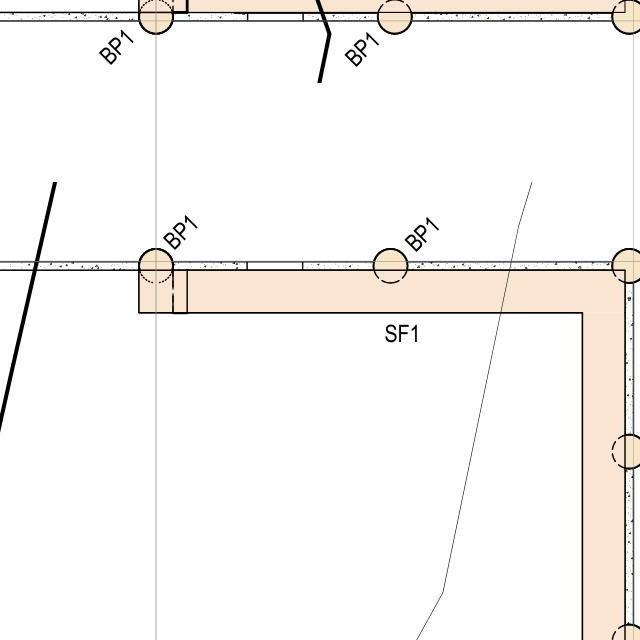BP1: (382, 216, 448, 263), (335, 22, 390, 77), (148, 210, 203, 257), (92, 34, 139, 81)
SF1: (370, 310, 439, 348)
